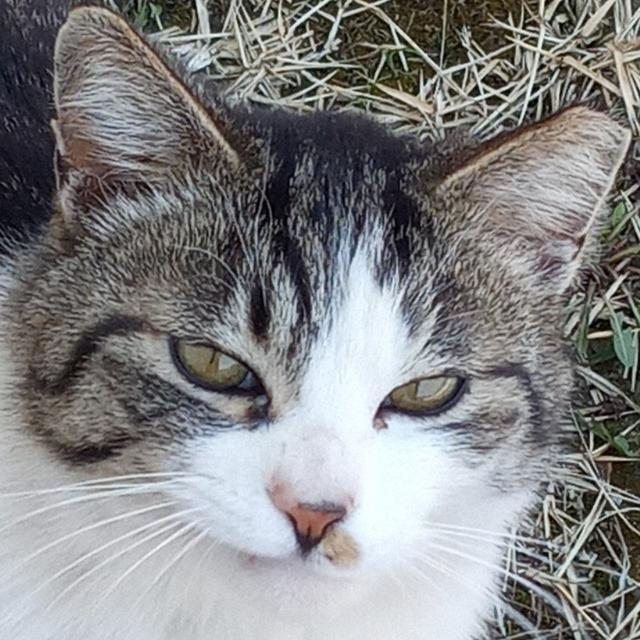animals: (13, 6, 632, 600)
